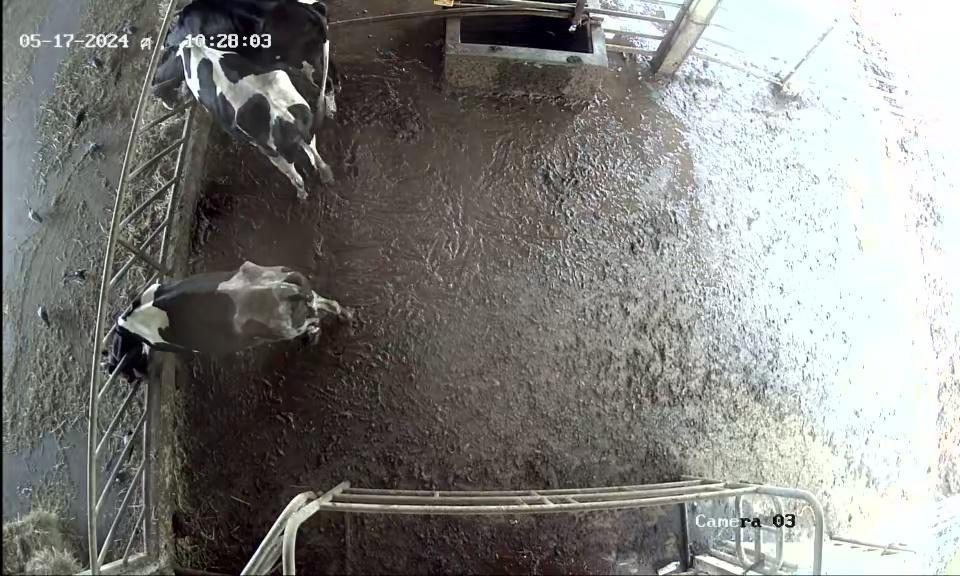eat: (79, 288, 177, 396), (126, 50, 234, 121), (137, 2, 246, 50)
